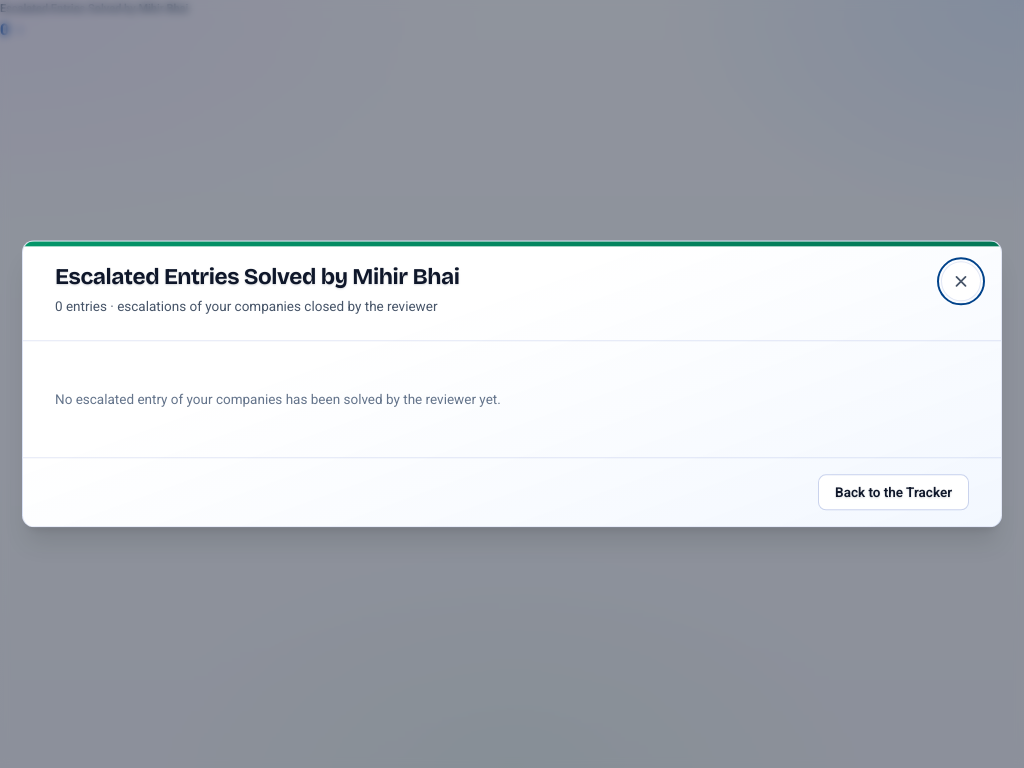
Test: the clickable metrics › empty and error states, with a retry; the close action shuts the view
Earlier steps of the test are not shown.
Later steps or results of the test are not shown.
Expected: the text "has been solved by the reviewer yet" is shown, [55,391,501,407]
Click the button "Back to the Tracker" at (894, 493), box [818,475,969,511]
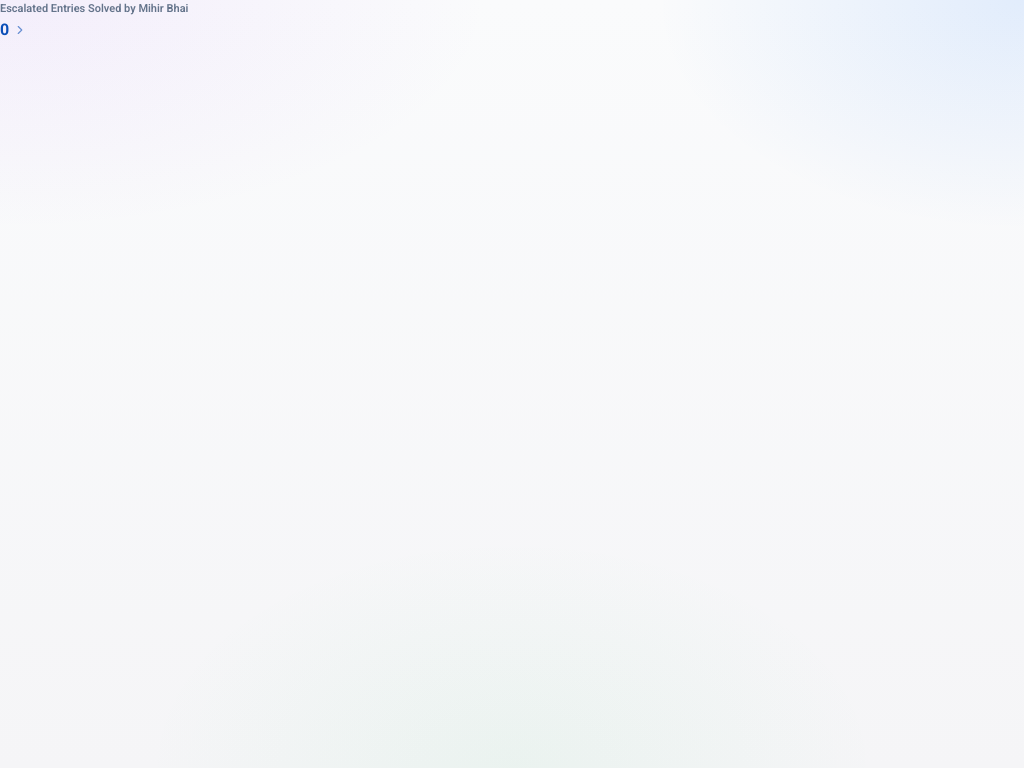
Expected: the text "has been solved by the reviewer yet" is gone
